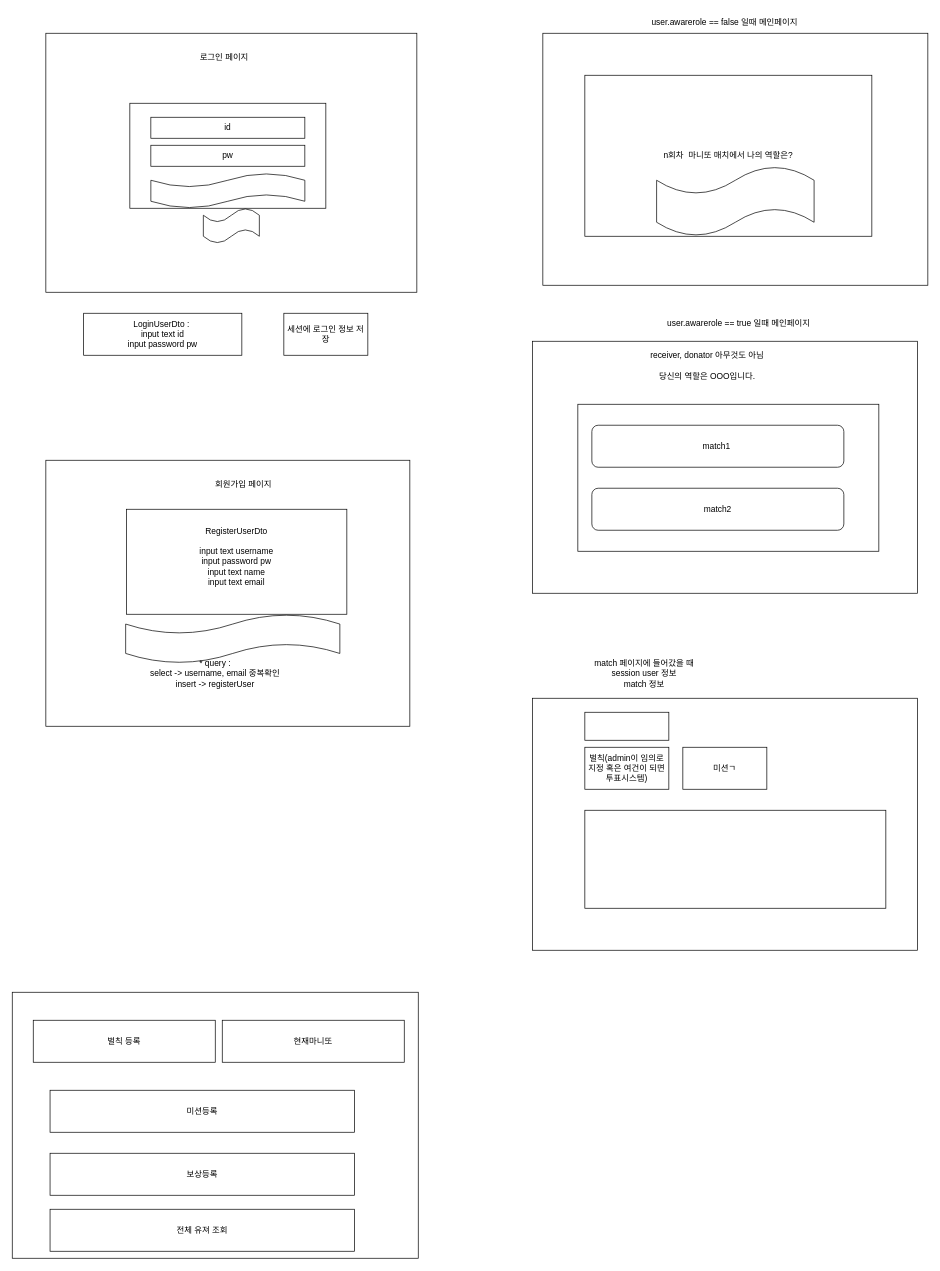
Some shapes in this 940 by 1271 pixel diagram are drawn without their labels. Each missing label, with the centre of its shape:
"comment창" goes at (735,859).
"가입하기" goes at (232,638).
"남은시간" goes at (626,726).
"로그인" goes at (227,190).
"확인하기 update user.awarerole == true" goes at (735,201).
"회원가입" goes at (231,225).
